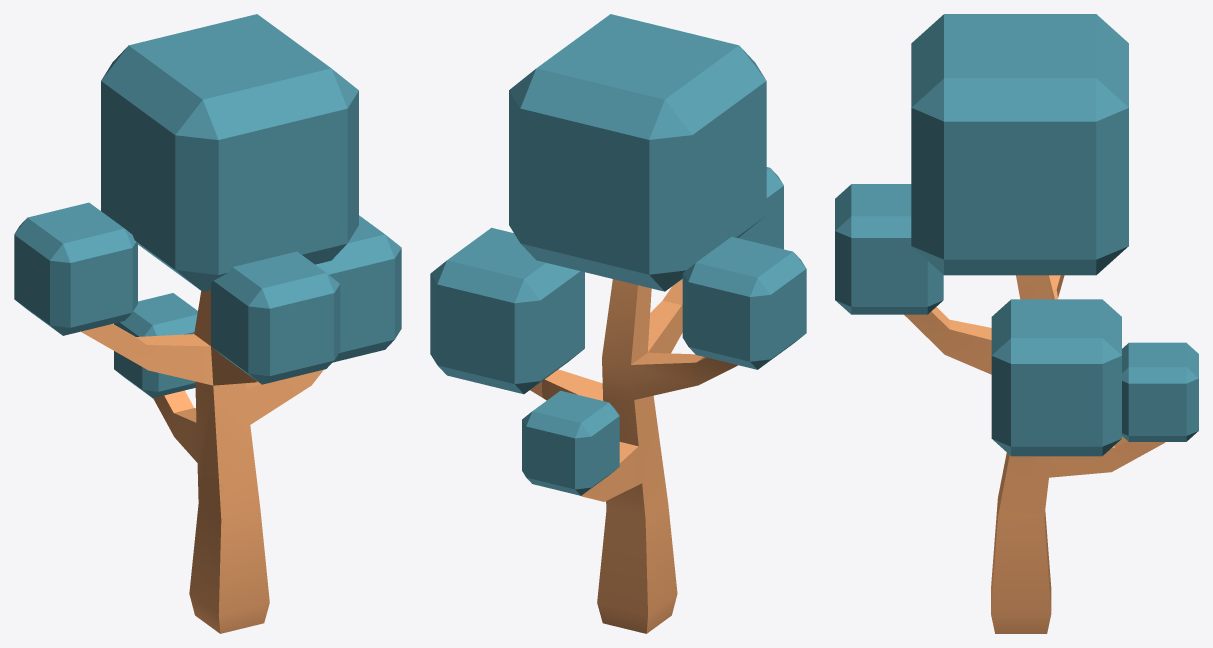
Rendered from tree_detailed_dark.fbx.
3 renders of one model, left to right at view 1: azimuth 30°, elevation 25°; view 2: azimuth 150°, elevation 25°; view 3: azimuth 270°, elevation 25°, orthographic. The views are drawn at different scales.
Visible parts, largest first — view 1: tree_detailed_dark; view 2: tree_detailed_dark; view 3: tree_detailed_dark.
Part boxes in pixels (box(x1,y1,x2,y2)): tree_detailed_dark: box(14, 14, 401, 633); tree_detailed_dark: box(430, 14, 806, 633); tree_detailed_dark: box(835, 14, 1198, 633).
Size of the model in its own units: 8.47 by 13.32 by 7.62.
